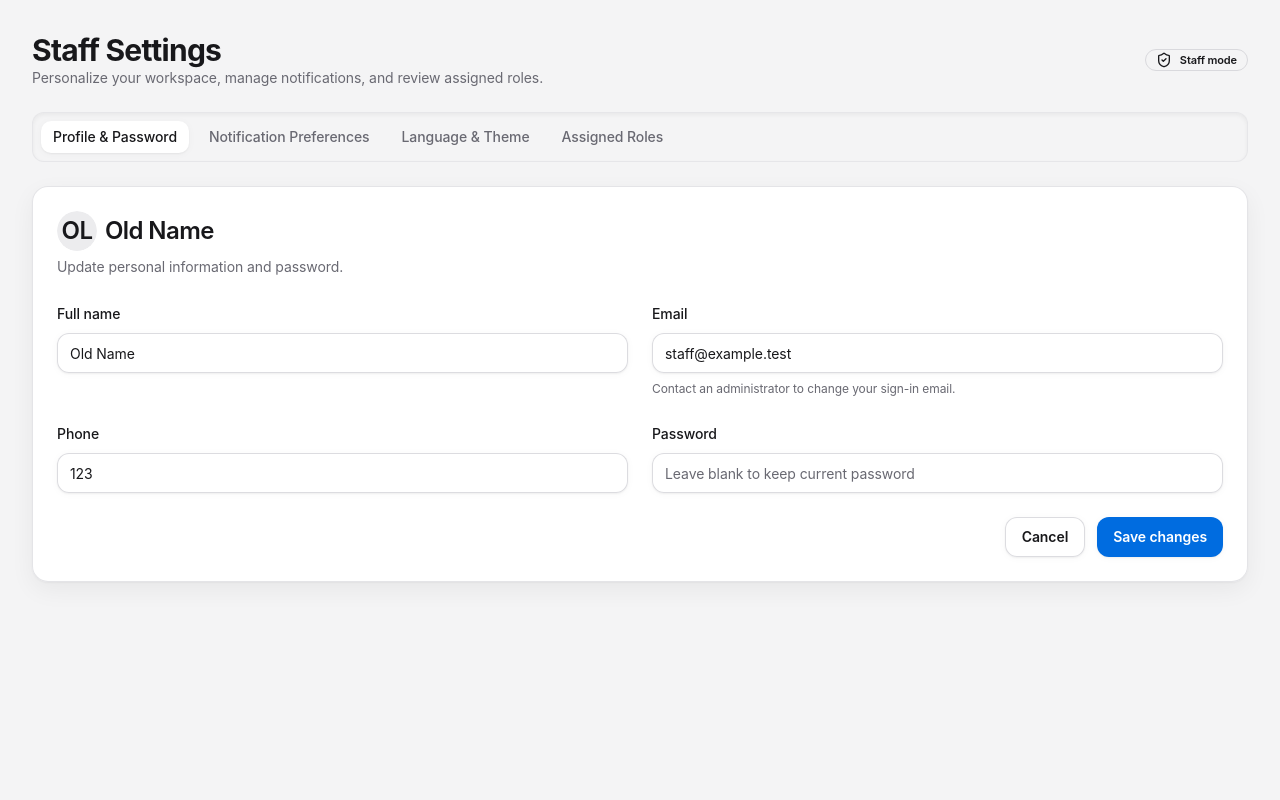
Test: staff settings › saves profile fields and an intentional password change
The width and height of the screenshot is (1280, 800).
Step 1. Replace the text in the field labelled "Full name" with "New Name" → (342, 353), box [57,333,628,373]
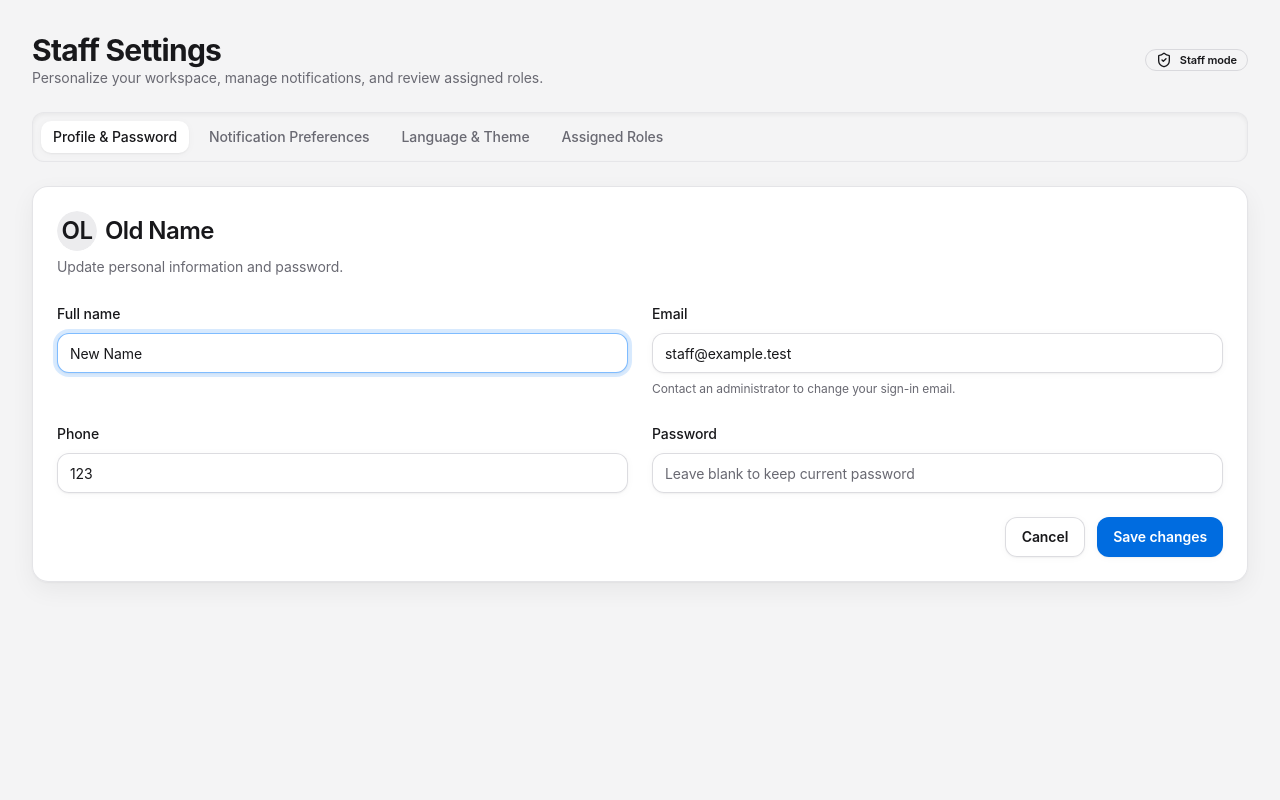
Step 2. Type "new-password" into the password field labelled "Password" → (938, 473), box [652,453,1223,493]
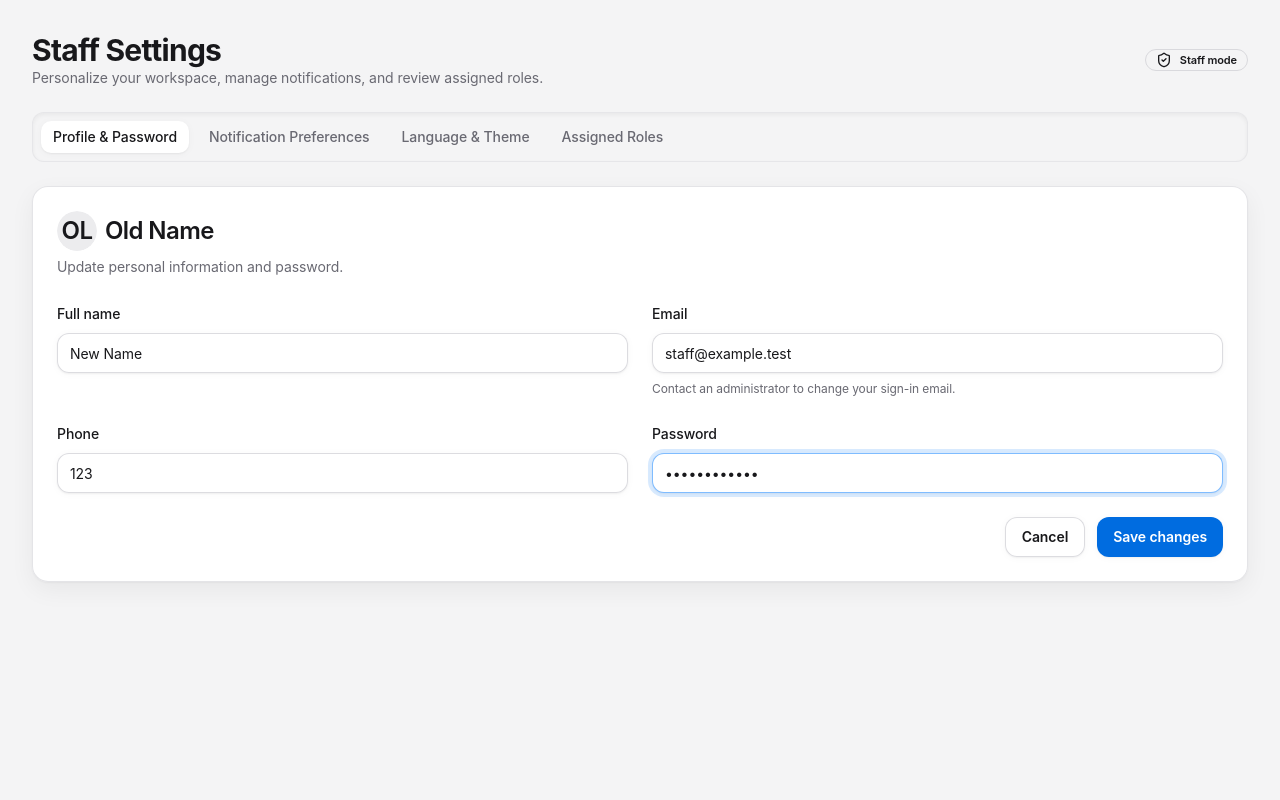
Step 3. Click the button "Save changes" → (1160, 537), box [1097,517,1223,557]
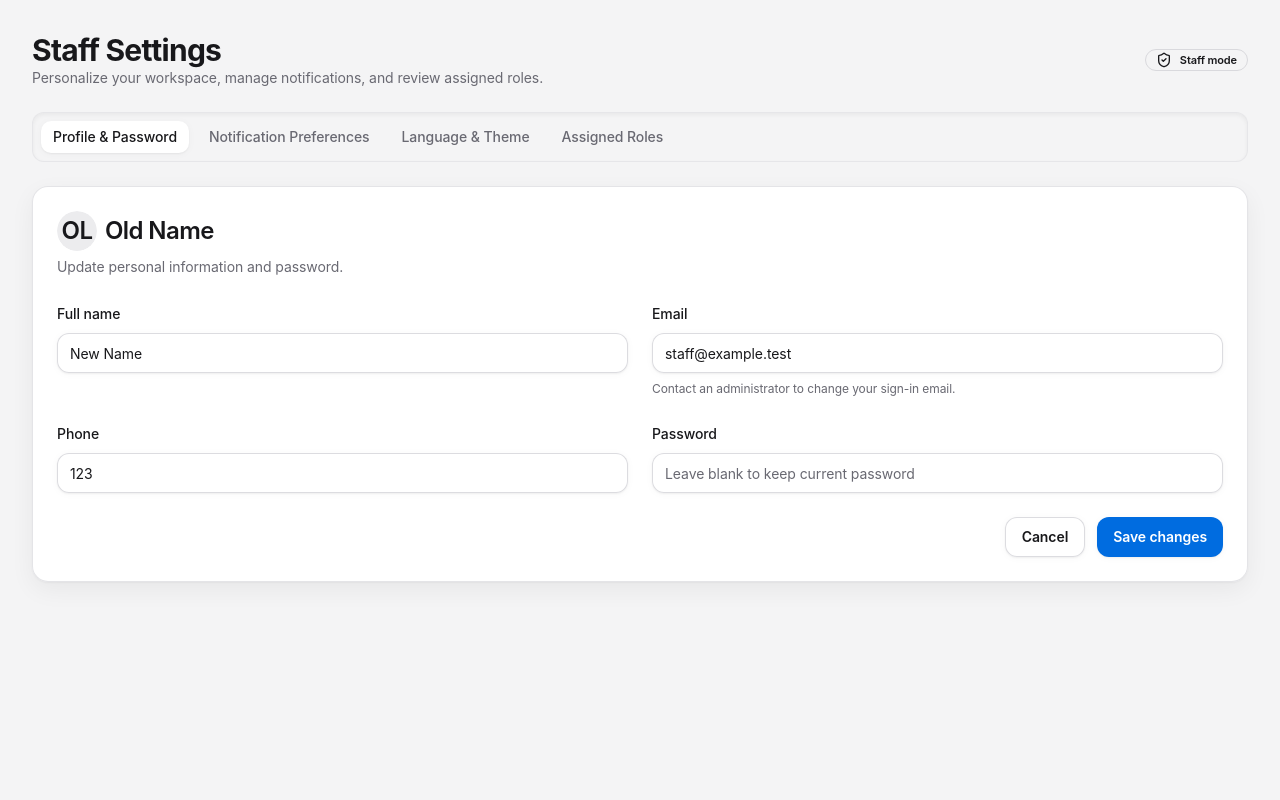
Expected: the password field labelled "Password" is empty, [652,453,1223,493]
